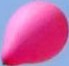Balloon: (1, 2, 69, 66)
